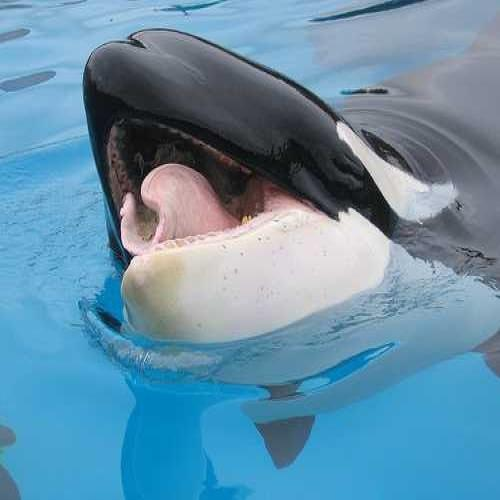killer_whale-endangered: (76, 13, 437, 360)
